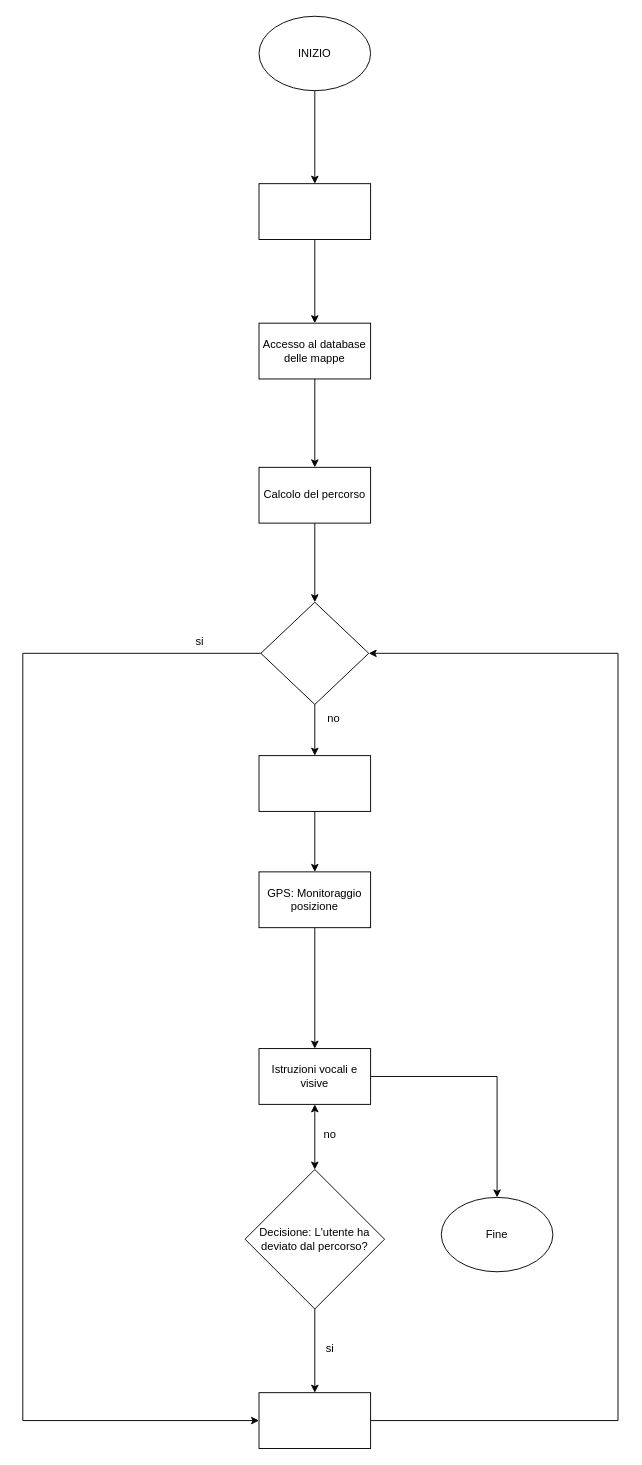
The diagram is 642 pixels wide and 1465 high, and some of its shapes have lost their labels. The shapes that lost their labels are listed below. From the top down, each one's centre as x and y in pixels, then its label:
the point at 314,211: Input dell'utente
the point at 314,652: Decisione: C'è traffico?
the point at 314,783: Conferma del percorso
the point at 314,1420: Ricalcolo del percorso
